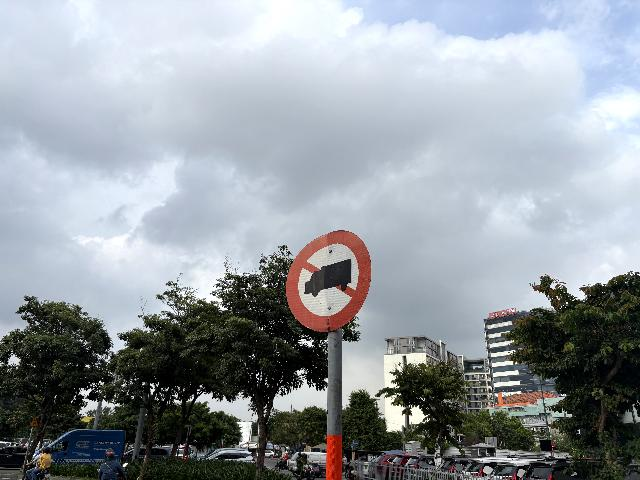cam-xe-tai: (286, 230, 373, 331)
